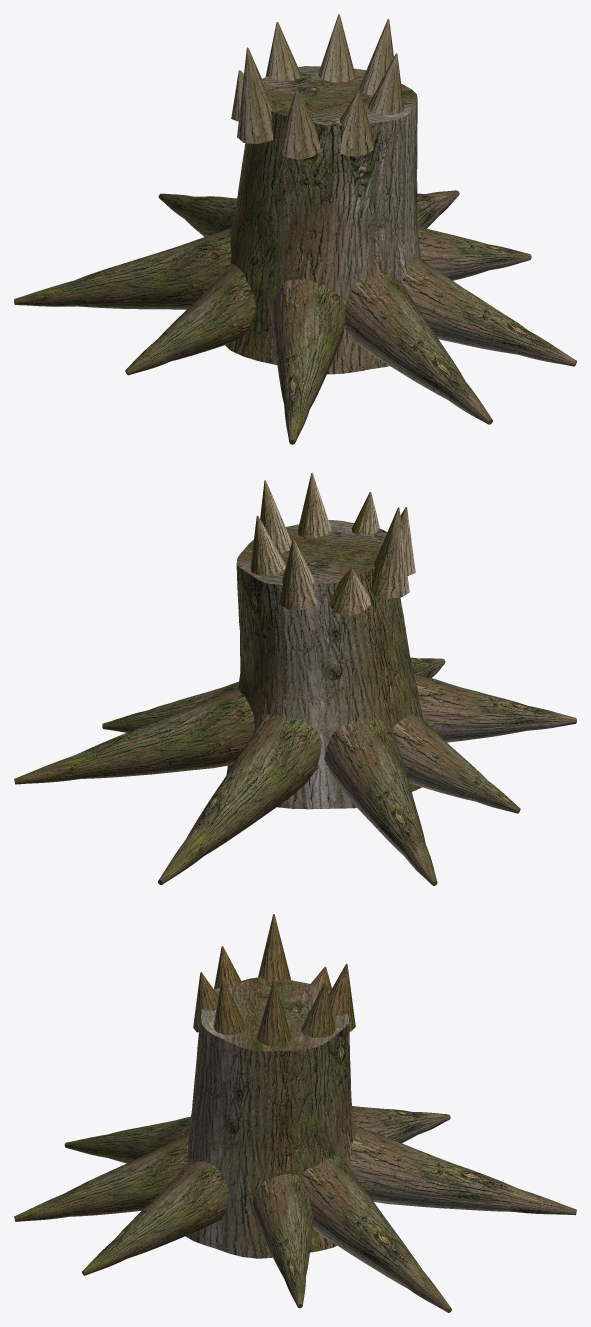
File: broken_stump_lod0.gltf
The picture shows the model from 3 angles, top to bottom: view 1: azimuth 30°, elevation 25°; view 2: azimuth 150°, elevation 25°; view 3: azimuth 270°, elevation 25°; orthographic projection. The views are drawn at different scales.
Visible parts, largest first — view 1: broken_stump_lod0; view 2: broken_stump_lod0; view 3: broken_stump_lod0.
Boxes of the visible parts, x1,y1,x2,y2 form: broken_stump_lod0: (14, 14, 576, 444); broken_stump_lod0: (14, 473, 576, 885); broken_stump_lod0: (14, 914, 576, 1312).
Size of the model in its own units: 1.3 by 0.844 by 1.58.
2 materials, 2 textured.
